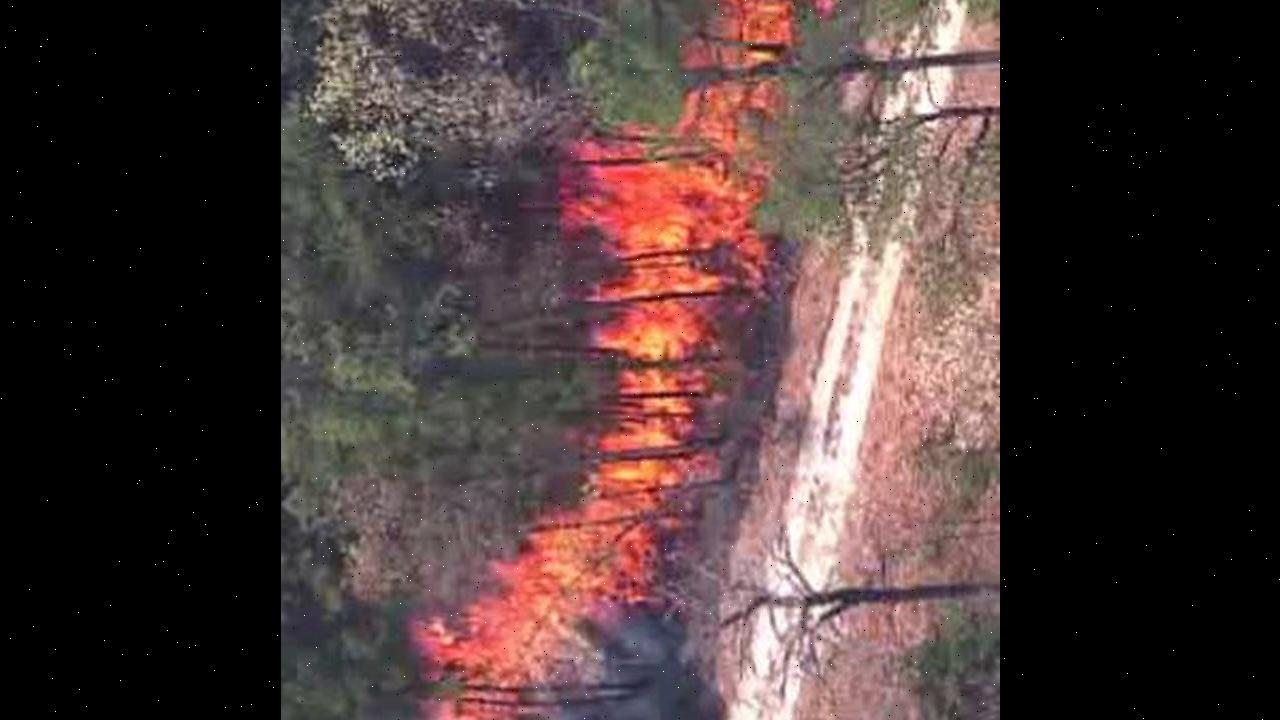fire: (386, 0, 848, 720)
